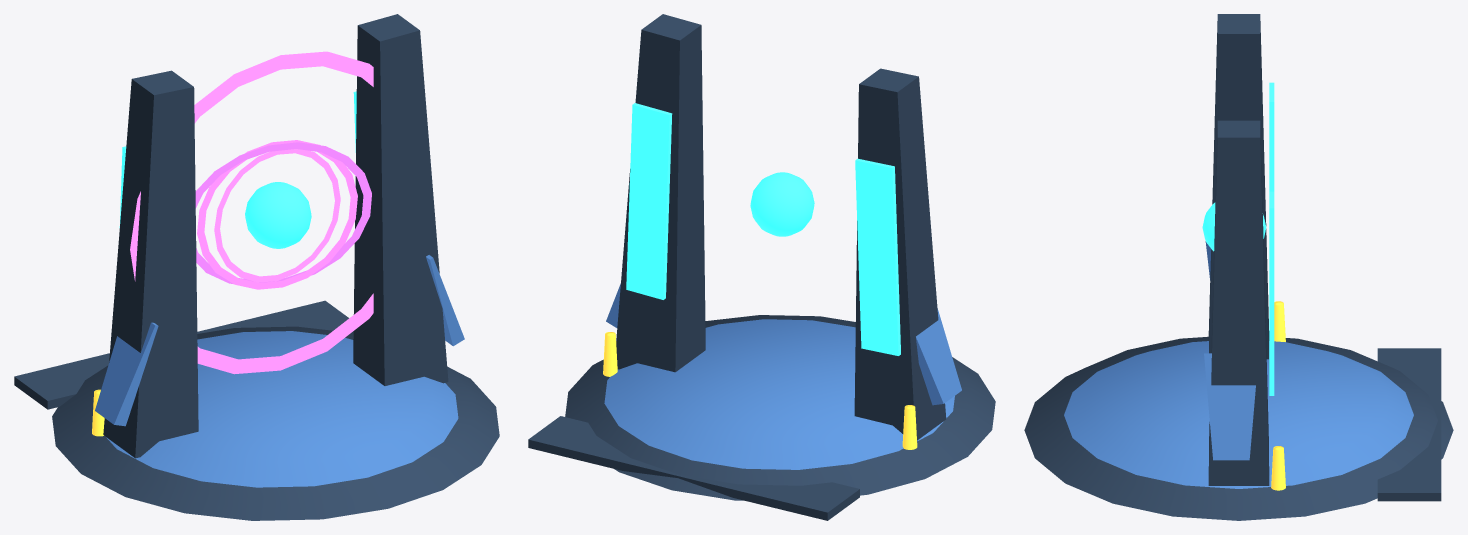
File: command-horizon-arrival-gate-lod0.glb
3 renders of one model, left to right at view 1: azimuth 30°, elevation 25°; view 2: azimuth 150°, elevation 25°; view 3: azimuth 270°, elevation 25°, orthographic. The views are drawn at different scales.
Parts seen in each view (by area): view 1: arrival-tier, arrival-pylon-1, arrival-pylon--1, arrival-plinth, arrival-arch, arrival-front-step, arrival-core, arrival-fin--1, arrival-orbit-1, arrival-orbit-2, arrival-orbit-0, arrival-fin-1; view 2: arrival-tier, arrival-pylon-1, arrival-pylon--1, arrival-plinth, arrival-panel--1, arrival-panel-1, arrival-front-step, arrival-core, arrival-fin--1, arrival-beacon--1, arrival-beacon-1; view 3: arrival-tier, arrival-plinth, arrival-pylon-1, arrival-pylon--1, arrival-front-step, arrival-fin-1, arrival-panel-1, arrival-panel--1, arrival-beacon-1, arrival-core.
Boxes of the visible parts, x1,y1,x2,y2 form: arrival-tier: [93, 331, 458, 487]; arrival-pylon-1: [353, 14, 448, 385]; arrival-pylon--1: [103, 70, 198, 458]; arrival-plinth: [52, 326, 499, 520]; arrival-arch: [130, 51, 373, 374]; arrival-front-step: [14, 300, 353, 409]; arrival-core: [245, 182, 311, 248]; arrival-fin--1: [95, 322, 158, 426]; arrival-orbit-1: [197, 140, 357, 289]; arrival-orbit-2: [195, 142, 371, 283]; arrival-orbit-0: [214, 149, 340, 282]; arrival-fin-1: [426, 255, 464, 346]; arrival-tier: [604, 319, 954, 469]; arrival-pylon-1: [616, 14, 705, 372]; arrival-pylon--1: [854, 68, 946, 440]; arrival-plinth: [565, 315, 995, 500]; arrival-panel--1: [855, 158, 900, 355]; arrival-panel-1: [626, 103, 672, 299]; arrival-front-step: [528, 416, 859, 520]; arrival-core: [750, 172, 814, 236]; arrival-fin--1: [916, 309, 961, 405]; arrival-beacon--1: [902, 405, 917, 449]; arrival-beacon-1: [603, 332, 617, 376]; arrival-tier: [1064, 341, 1413, 488]; arrival-plinth: [1024, 336, 1453, 520]; arrival-pylon-1: [1208, 120, 1269, 485]; arrival-pylon--1: [1208, 14, 1269, 359]; arrival-front-step: [1377, 348, 1441, 501]; arrival-fin-1: [1204, 353, 1255, 460]; arrival-panel-1: [1269, 191, 1274, 395]; arrival-panel--1: [1269, 82, 1274, 191]; arrival-beacon-1: [1271, 446, 1285, 490]; arrival-core: [1202, 202, 1266, 251].
Bounding box in the file's own units: 5.64 × 5.18 × 5.64.
